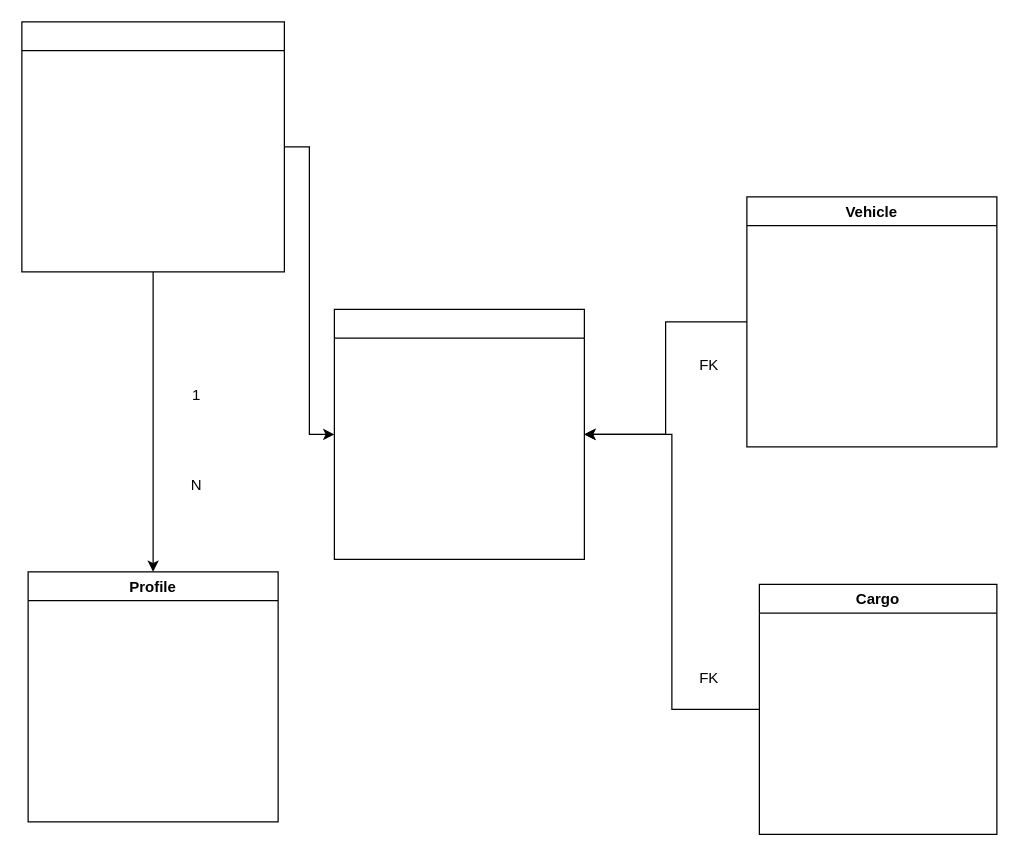
Some shapes in this 1019 by 856 pixel diagram are drawn without their labels. The shapes that lost their labels are listed below. From the top down, each one's centre as x and y in pixels, then its label:
point (152, 146): Customer
point (458, 433): Order
